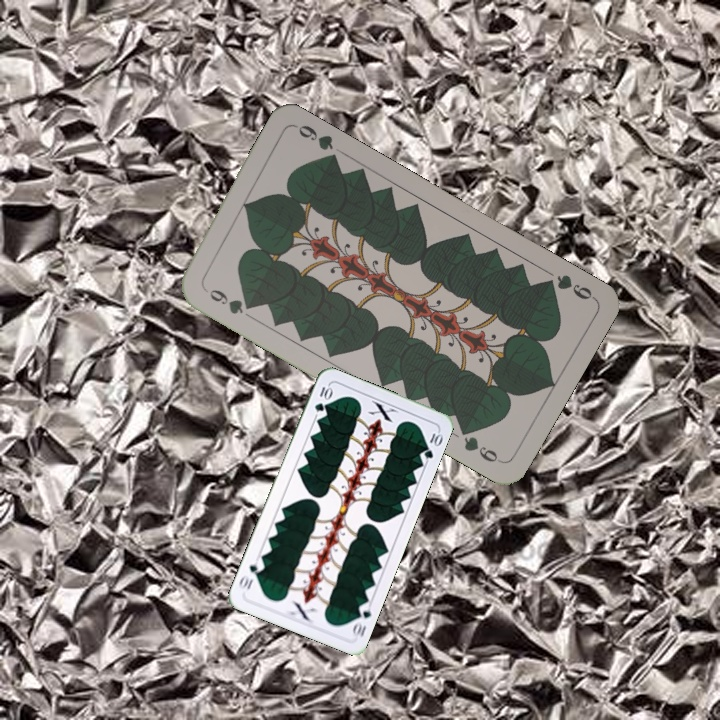G10: (348, 599, 374, 640), (310, 382, 334, 415)
G9: (538, 270, 597, 303), (199, 283, 256, 317)
